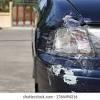Headlight-Damage: (36, 13, 99, 73)
front-bumper-dent: (30, 55, 99, 92)
